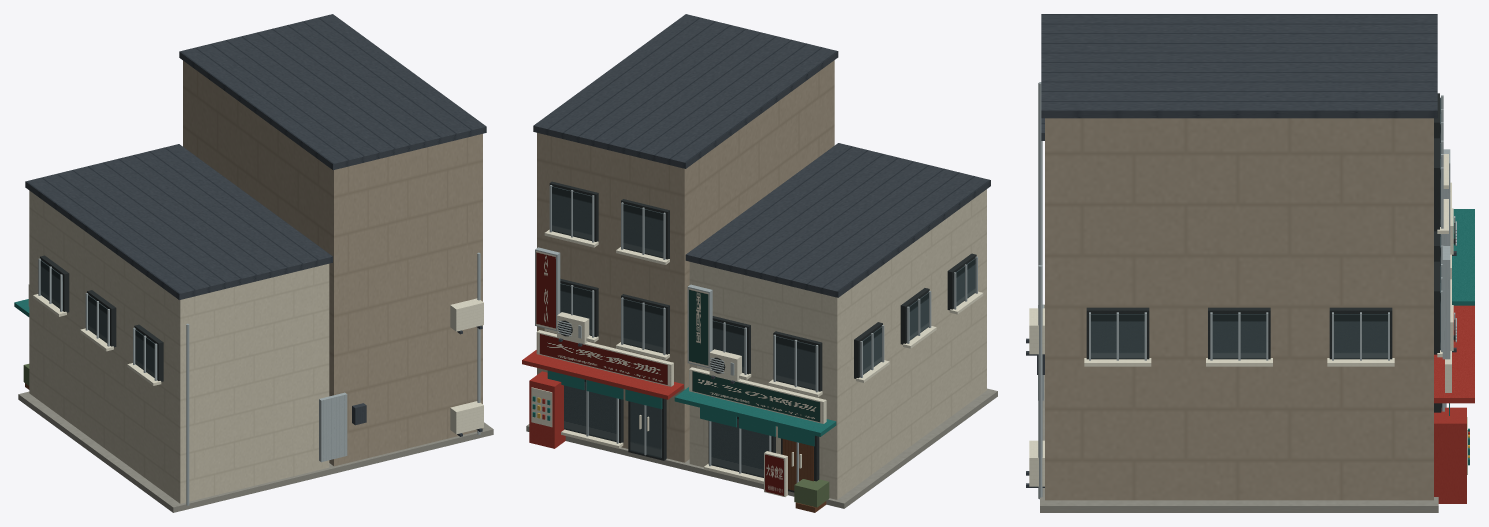
File: shop_009.obj
3 renders of one model, left to right at view 1: azimuth 30°, elevation 25°; view 2: azimuth 150°, elevation 25°; view 3: azimuth 270°, elevation 25°, orthographic. The views are drawn at different scales.
Parts seen in each view (by area): view 1: shop_009; view 2: shop_009; view 3: shop_009.
Part boxes in pixels (left/top/right/bottom): shop_009: left=14, top=14, right=493, bottom=512; shop_009: left=522, top=14, right=997, bottom=512; shop_009: left=1026, top=14, right=1474, bottom=512.
Size of the model in its own units: 9.96 by 9.04 by 9.23.
Materials: 1 (1 with a texture image).
